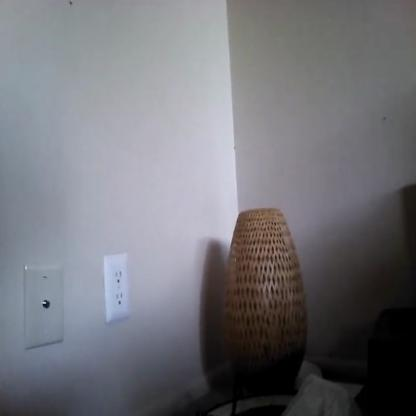OUTLET: (103, 254, 130, 323)
